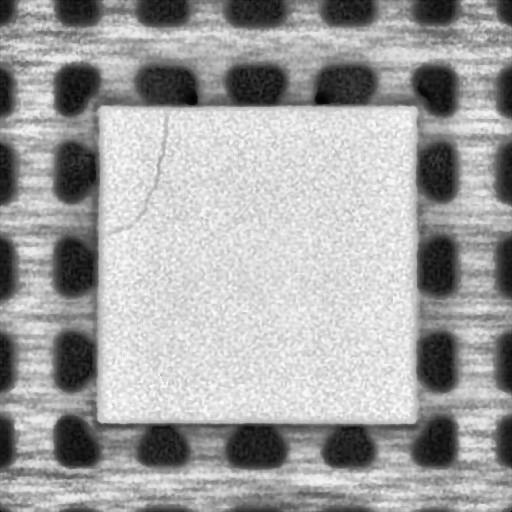DIE_CRACK: (104, 115, 170, 238)
